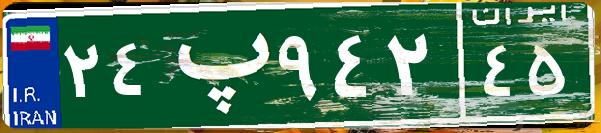2: (385, 28, 445, 110), (57, 26, 110, 107)
4: (330, 28, 385, 110), (475, 38, 525, 113), (110, 28, 158, 105)
5: (525, 38, 570, 115)
9: (273, 28, 330, 110)
پ: (158, 15, 273, 115)
